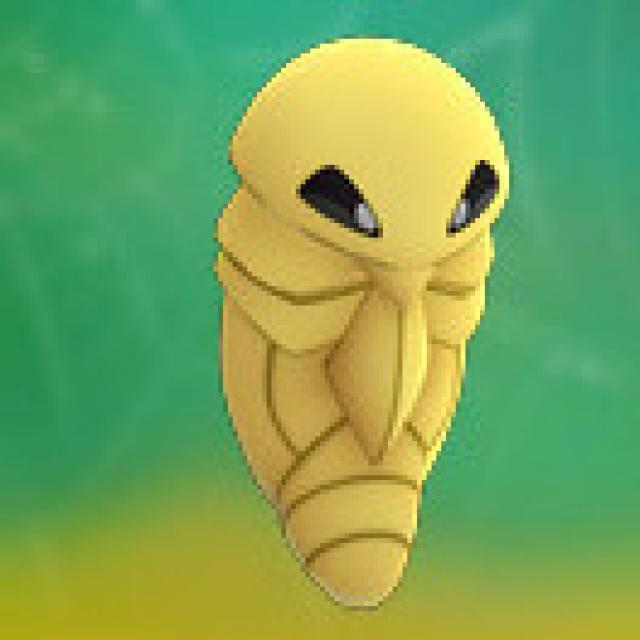Kakuna: (202, 21, 512, 619)
